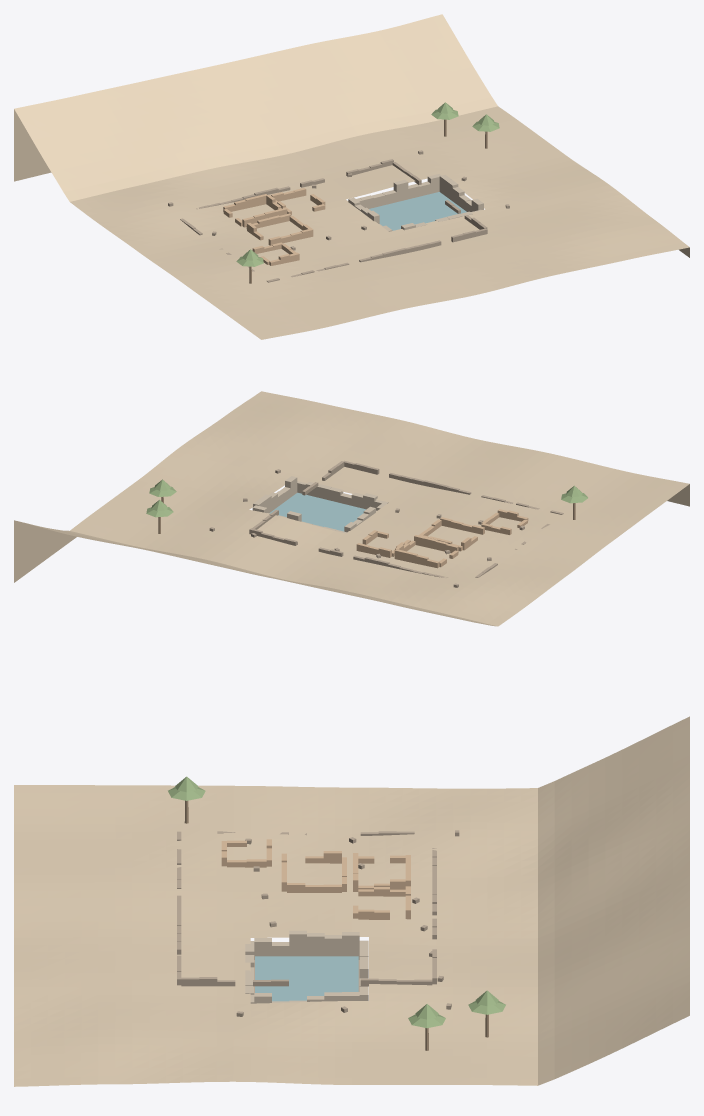
Rendered from umm-dumayran.glb.
3 renders of one model, top to bottom at view 1: azimuth 30°, elevation 25°; view 2: azimuth 150°, elevation 25°; view 3: azimuth 270°, elevation 25°, orthographic. The views are drawn at different scales.
Parts seen in each view (by area): view 1: ground, mud, stone, stoneDark, water, greenDark; view 2: ground, mud, stoneDark, stone, water, greenDark; view 3: ground, stone, mud, water, stoneDark, greenDark.
Part boxes in pixels (x1,y1,x2,y2): ground: (14,14,689,339); mud: (223,188,325,265); stone: (348,174,483,231); stoneDark: (168,150,509,282); water: (369,192,466,230); greenDark: (236,102,499,266); ground: (14,391,689,626); mud: (356,509,528,568); stoneDark: (209,460,563,587); stone: (252,476,388,533); water: (269,492,365,531); greenDark: (146,479,587,517); ground: (14,716,689,1086); stone: (245,930,368,1003); mud: (221,839,410,919); water: (255,956,358,1001); stoneDark: (177,830,459,1016); greenDark: (168,776,505,1028).
Size of the model in its own units: 90 by 14.66 by 90.
